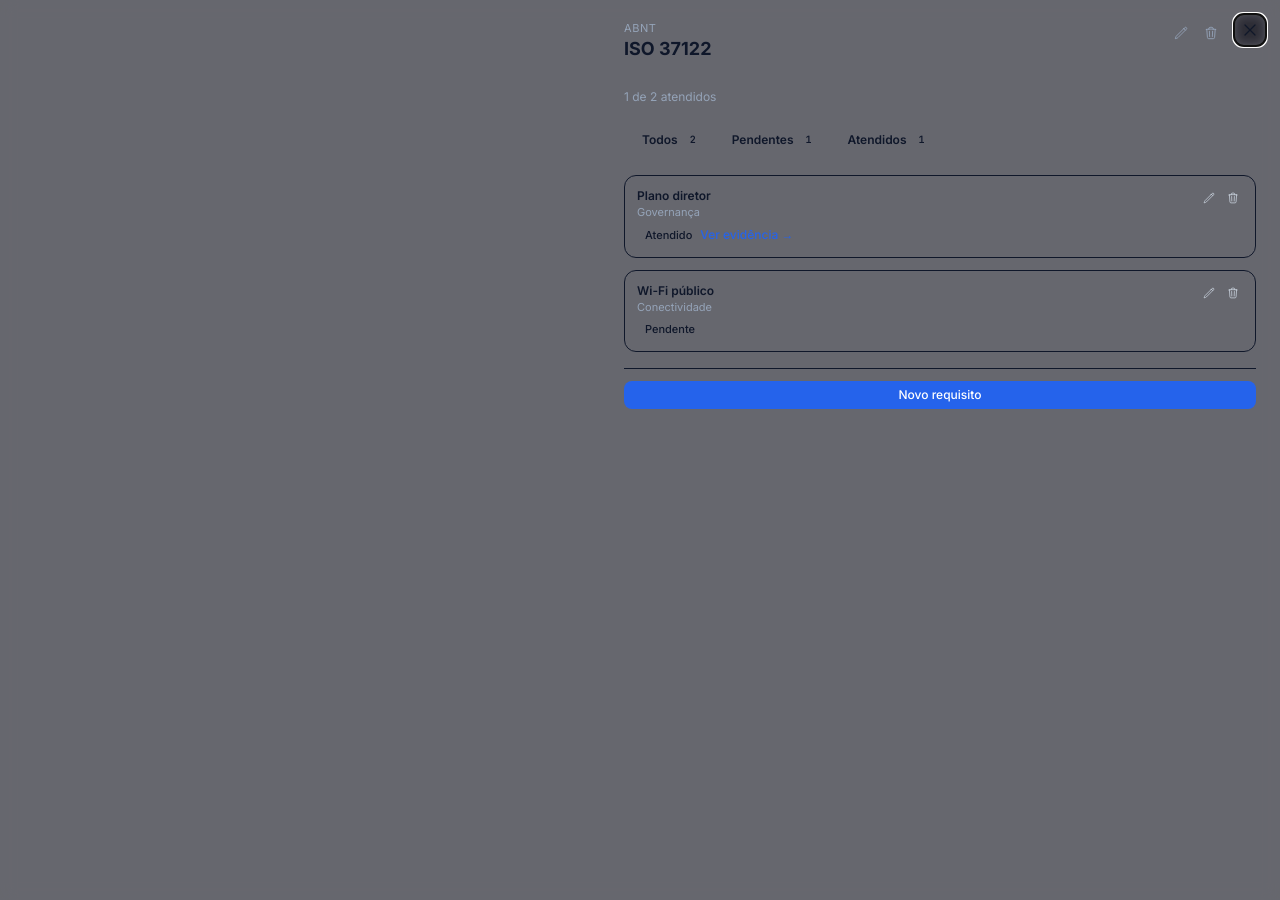
it: CertificacaoDrawer › aba de status filtra a lista
The width and height of the screenshot is (1280, 900).
Expected: the text "Plano diretor" is shown, [637,188,711,203]
Click the tab "Atendidos 1". click: point(889, 140)
box: [834,125,944,155]
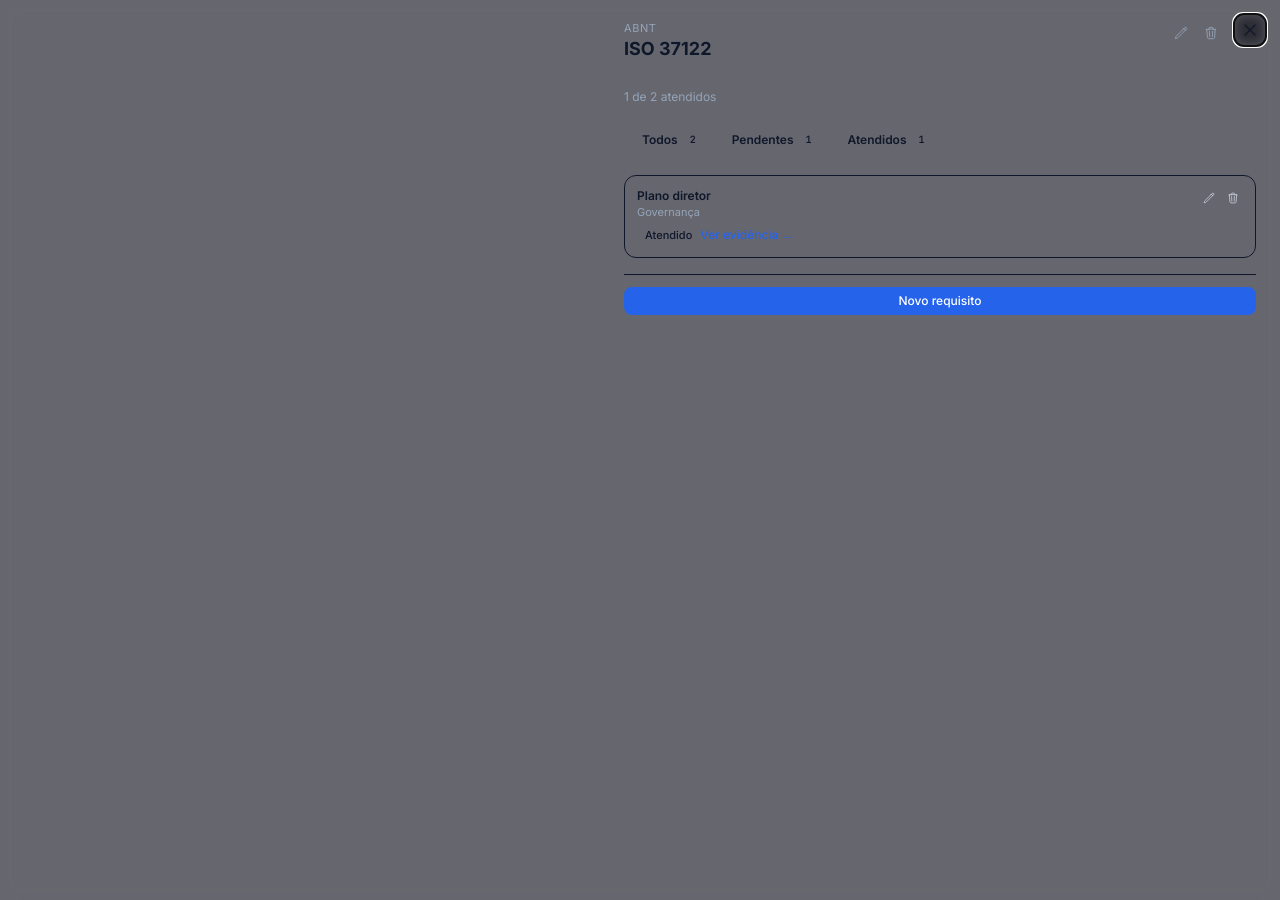
Expected: the text "Plano diretor" is shown, [637,188,711,203]
Expected: the text "Wi-Fi público" is gone
